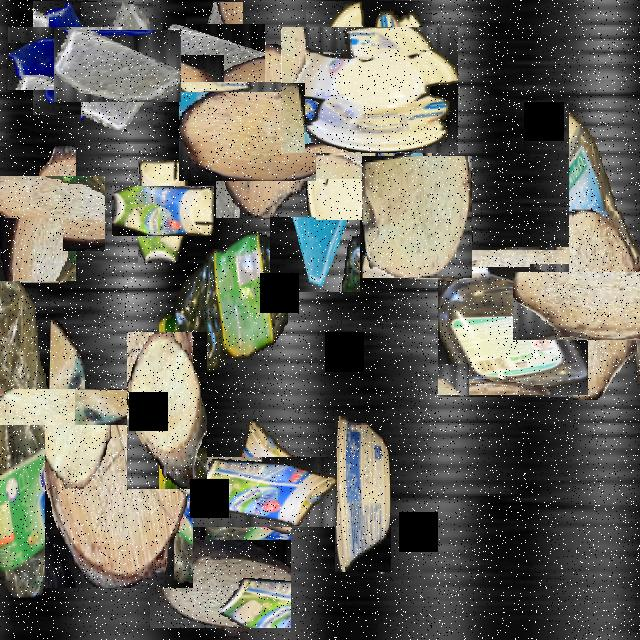glass: (316, 54, 410, 220), (270, 134, 360, 294), (67, 16, 167, 116), (20, 14, 110, 103), (174, 13, 254, 94)
plastic: (0, 218, 63, 596), (293, 15, 445, 166), (439, 248, 587, 396), (159, 224, 287, 388), (569, 102, 640, 340), (210, 438, 318, 546), (335, 416, 391, 572), (125, 173, 201, 250)
wood: (45, 400, 193, 588), (198, 63, 334, 200), (154, 501, 286, 633), (362, 156, 472, 278), (542, 241, 640, 370), (127, 332, 207, 489), (15, 354, 120, 460), (0, 160, 90, 266)
